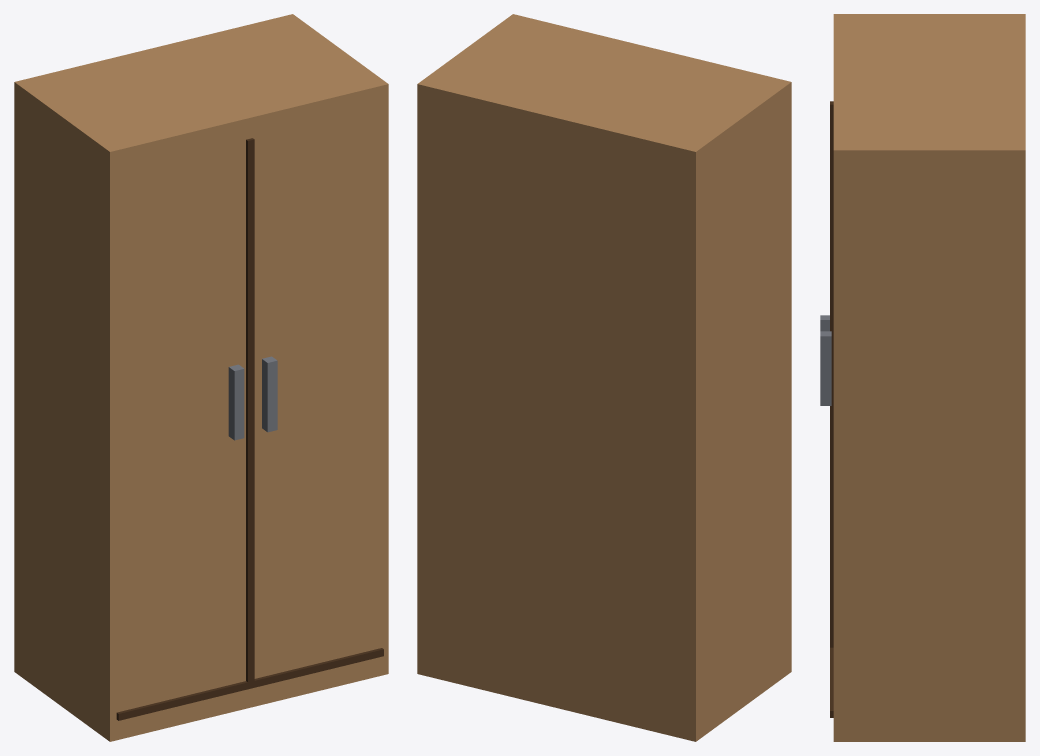
File: mod-armario.gltf
3 renders of one model, left to right at view 1: azimuth 30°, elevation 25°; view 2: azimuth 150°, elevation 25°; view 3: azimuth 270°, elevation 25°, orthographic.
Visible parts, largest first — view 1: mod-armario; view 2: mod-armario; view 3: mod-armario.
Part boxes in pixels (left/top/right/bottom): mod-armario: left=14, top=14, right=388, bottom=741; mod-armario: left=417, top=14, right=791, bottom=741; mod-armario: left=820, top=14, right=1025, bottom=741.
Size of the model in its own units: 0.84 by 1.7 by 0.535.
